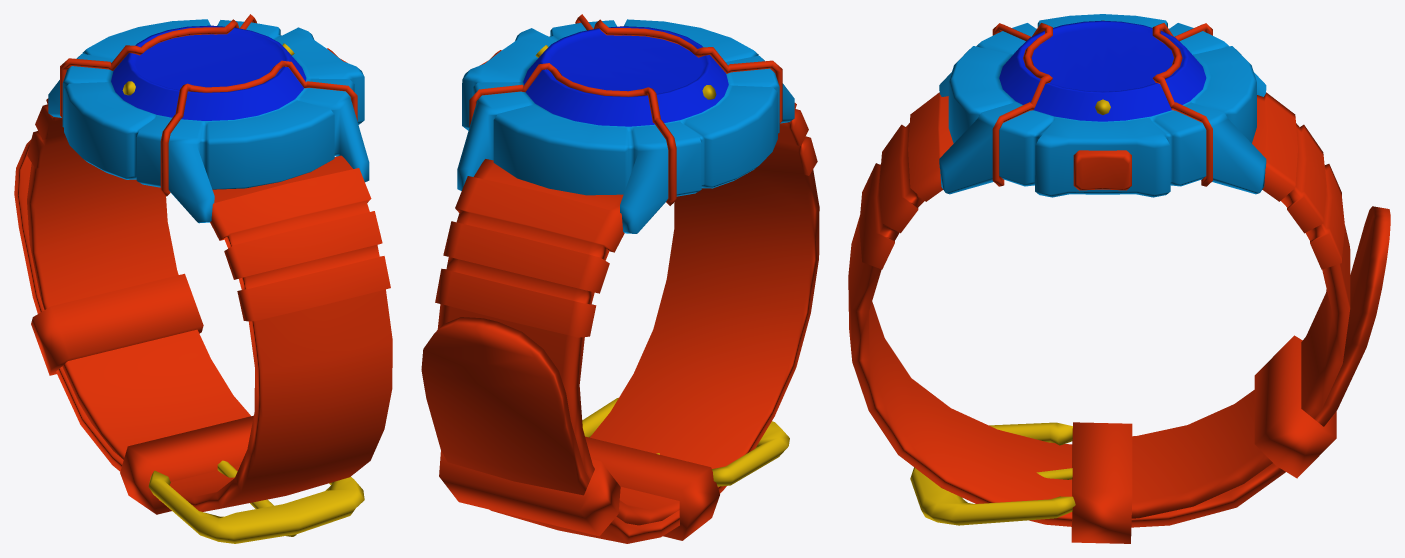
The model's file is Minase_watch.fbx.
3 renders of one model, left to right at view 1: azimuth 30°, elevation 25°; view 2: azimuth 150°, elevation 25°; view 3: azimuth 270°, elevation 25°, orthographic. The views are drawn at different scales.
Parts seen in each view (by area): view 1: Watch; view 2: Watch; view 3: Watch.
Part boxes in pixels (<box>): Watch: <box>14,14,392,543</box>; Watch: <box>421,14,819,543</box>; Watch: <box>848,14,1390,543</box>.
Size of the model in its own units: 0.0388 by 0.0619 by 0.0662.
